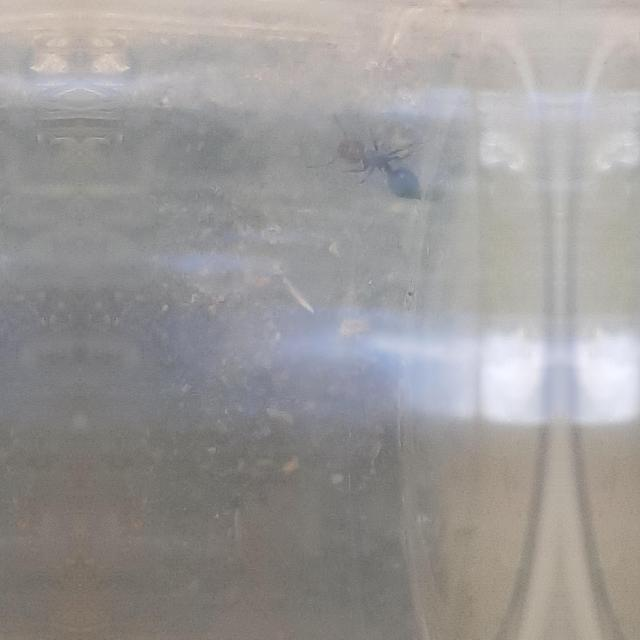Crematogaster: (316, 110, 436, 210)
